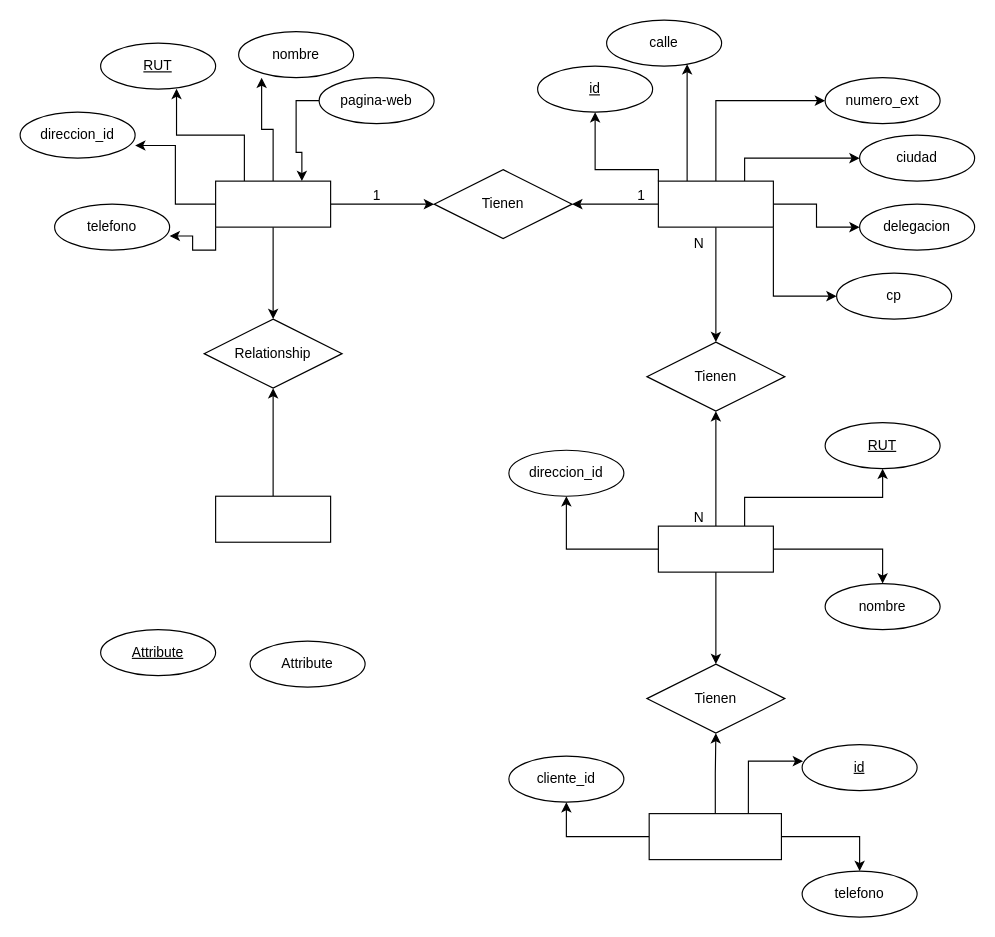
The diagram is 995 pixels wide and 937 high, and some of its shapes have lost their labels. The shapes that lost their labels are listed below. From the top down, each one's centre as x and y in pixels, then its label:
At pixel 272 203: "proveedores".
At pixel 715 203: "direcciones".
At pixel 272 518: "productos".
At pixel 715 548: "clientes".
At pixel 714 836: "telefonos_clientes".
